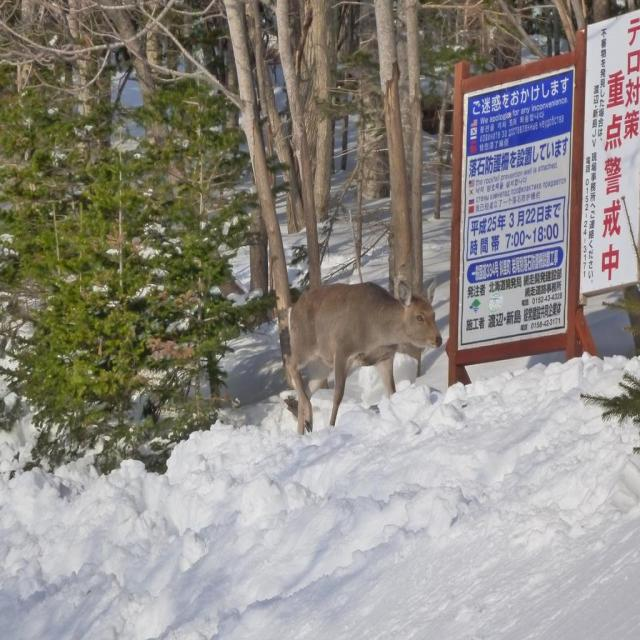Deer: (287, 274, 439, 436)
